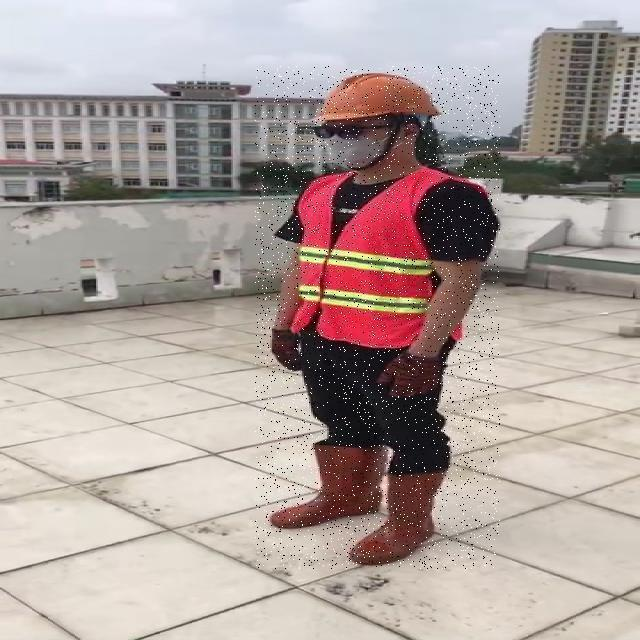boots: (270, 444, 384, 530), (350, 472, 448, 566)
gloves: (375, 308, 463, 416)
helmet: (311, 67, 445, 126)
helmet on: (280, 24, 453, 205)
person: (255, 66, 500, 568)
vest: (295, 169, 465, 347)
